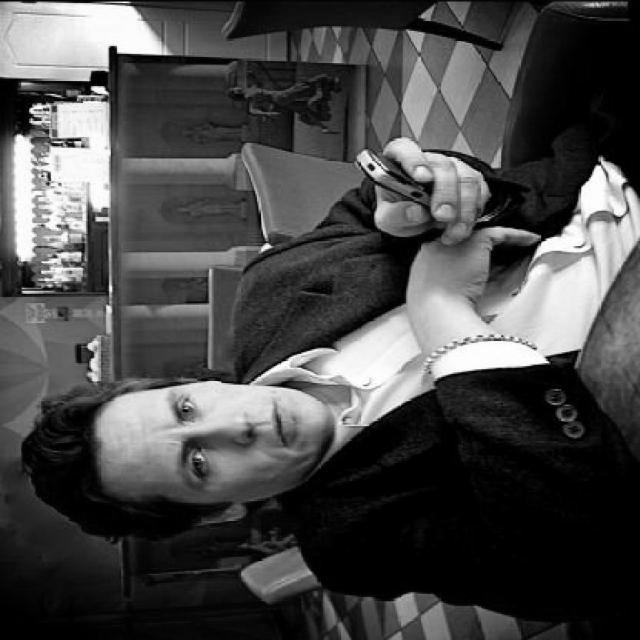fake: (352, 146, 442, 214)
